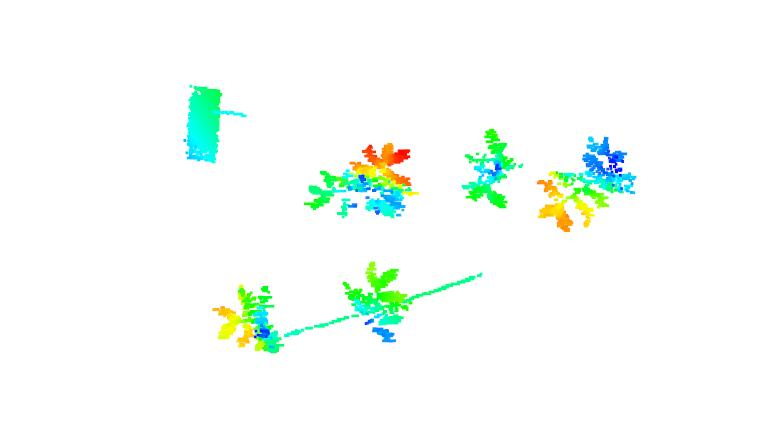chickpea: (534, 134, 641, 236), (302, 139, 414, 225), (461, 128, 527, 215), (342, 263, 410, 342), (211, 283, 284, 356)
